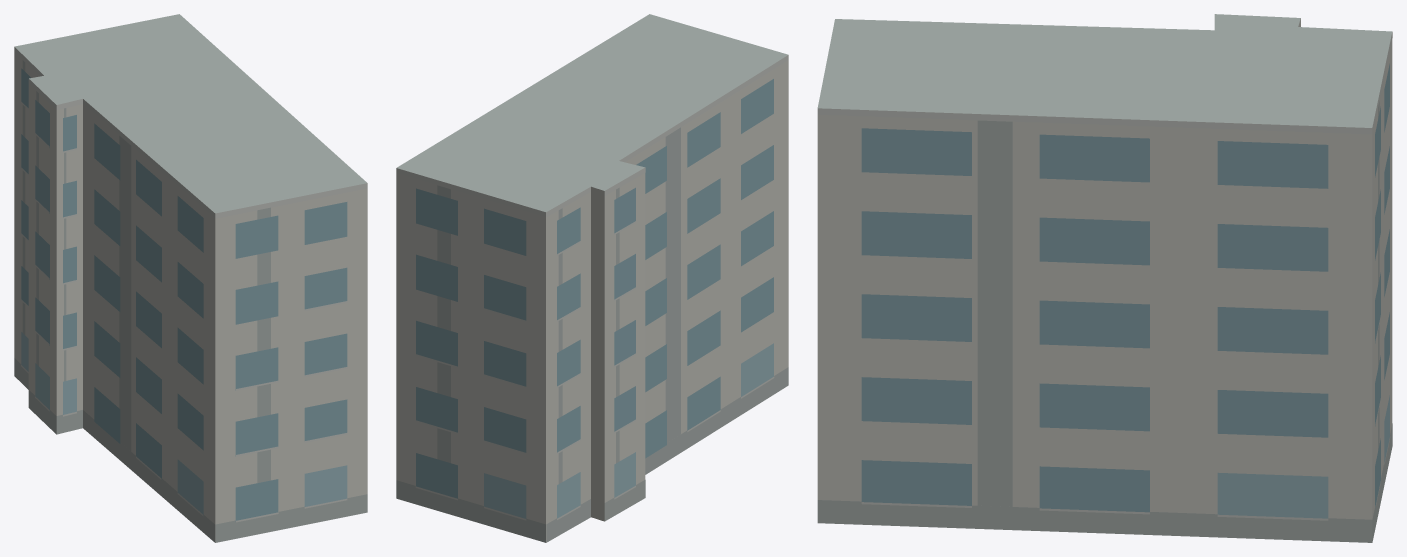
The model's file is survey-upis-33029201.glb.
The picture shows the model from 3 angles, left to right: view 1: azimuth 30°, elevation 25°; view 2: azimuth 150°, elevation 25°; view 3: azimuth 270°, elevation 25°; orthographic projection. The views are drawn at different scales.
Parts seen in each view (by area): view 1: survey-upis-33029201.tmp; view 2: survey-upis-33029201.tmp; view 3: survey-upis-33029201.tmp.
Part boxes in pixels (<box>): survey-upis-33029201.tmp: <box>14,14,367,542</box>; survey-upis-33029201.tmp: <box>396,14,788,542</box>; survey-upis-33029201.tmp: <box>817,14,1392,542</box>.
Bounding box in the file's own units: 9.21 × 15.6 × 19.6.
